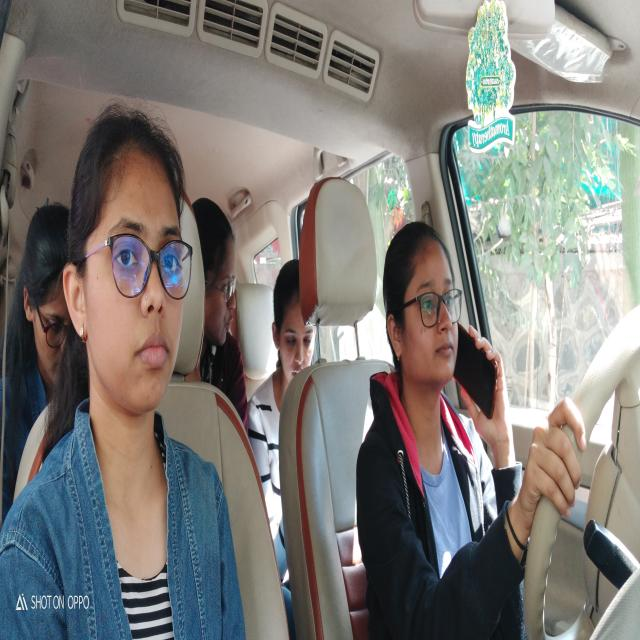mobile: (456, 324, 505, 425)
person: (67, 118, 193, 409), (384, 230, 462, 386), (21, 225, 77, 388), (190, 194, 236, 354), (269, 262, 319, 380)
